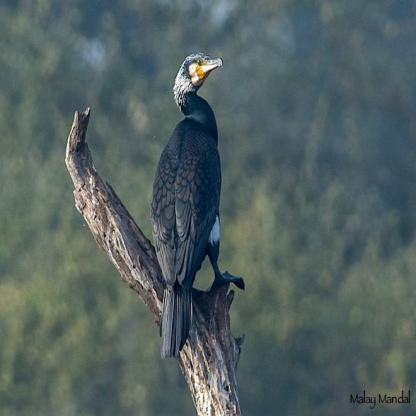Burung: (153, 53, 244, 363)
